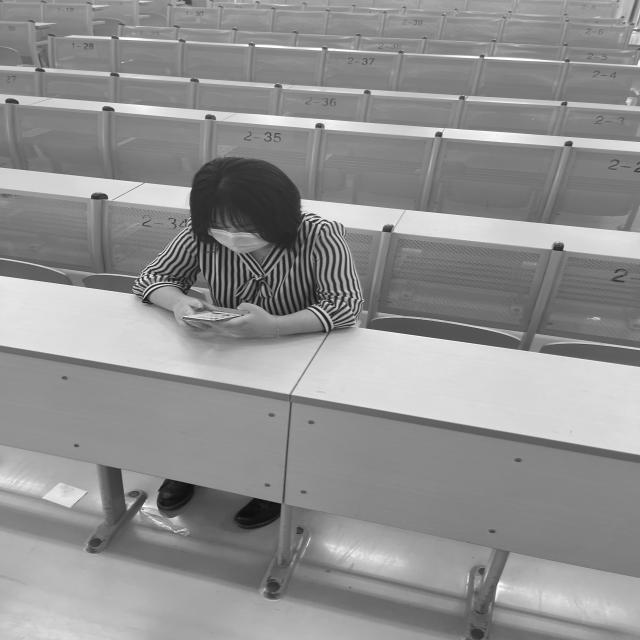phone: (133, 157, 366, 340)
